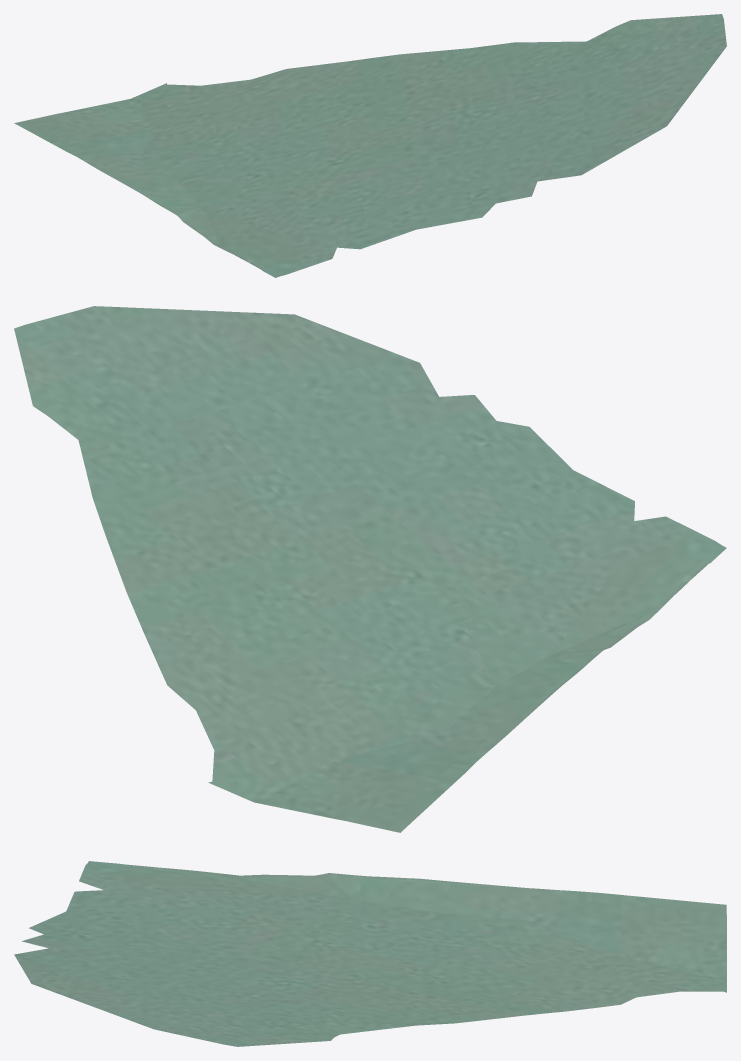
File: Tile_+008_+006_L20_000240.glb
The picture shows the model from 3 angles, top to bottom: view 1: azimuth 30°, elevation 25°; view 2: azimuth 150°, elevation 25°; view 3: azimuth 270°, elevation 25°; orthographic projection. The views are drawn at different scales.
Parts seen in each view (by area): view 1: rtc; view 2: rtc; view 3: rtc.
Boxes of the visible parts, x1,y1,x2,y2 form: rtc: (14, 14, 726, 277); rtc: (14, 306, 726, 832); rtc: (14, 861, 726, 1046).
Bounding box in the file's own units: 11.58 × 2.96 × 11.51.
Materials: 1 (1 with a texture image).
